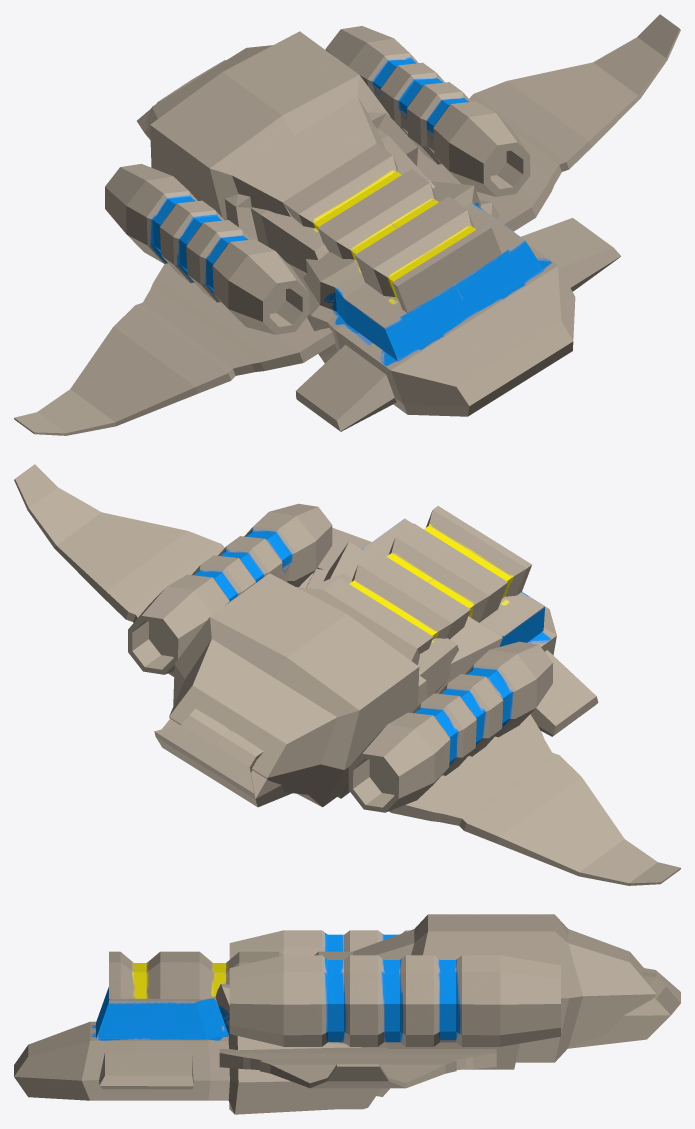
The model's file is nave2-anima.glb.
3 views of the same model, one above another, from view 1: azimuth 30°, elevation 25°; view 2: azimuth 150°, elevation 25°; view 3: azimuth 270°, elevation 25° (orthographic). The views are drawn at different scales.
Visible parts, largest first — view 1: Cube; view 2: Cube; view 3: Cube.
Boxes of the visible parts, x1,y1,x2,y2 form: Cube: (14,14,680,435); Cube: (14,464,680,885); Cube: (14,914,680,1114).
Size of the model in its own units: 8.69 by 3.25 by 7.32.
Materials: 1 (1 with a texture image).
